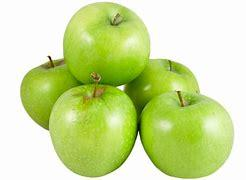apple: (139, 87, 235, 180), (45, 83, 137, 175), (58, 2, 149, 83), (118, 52, 201, 114), (14, 56, 83, 121)
